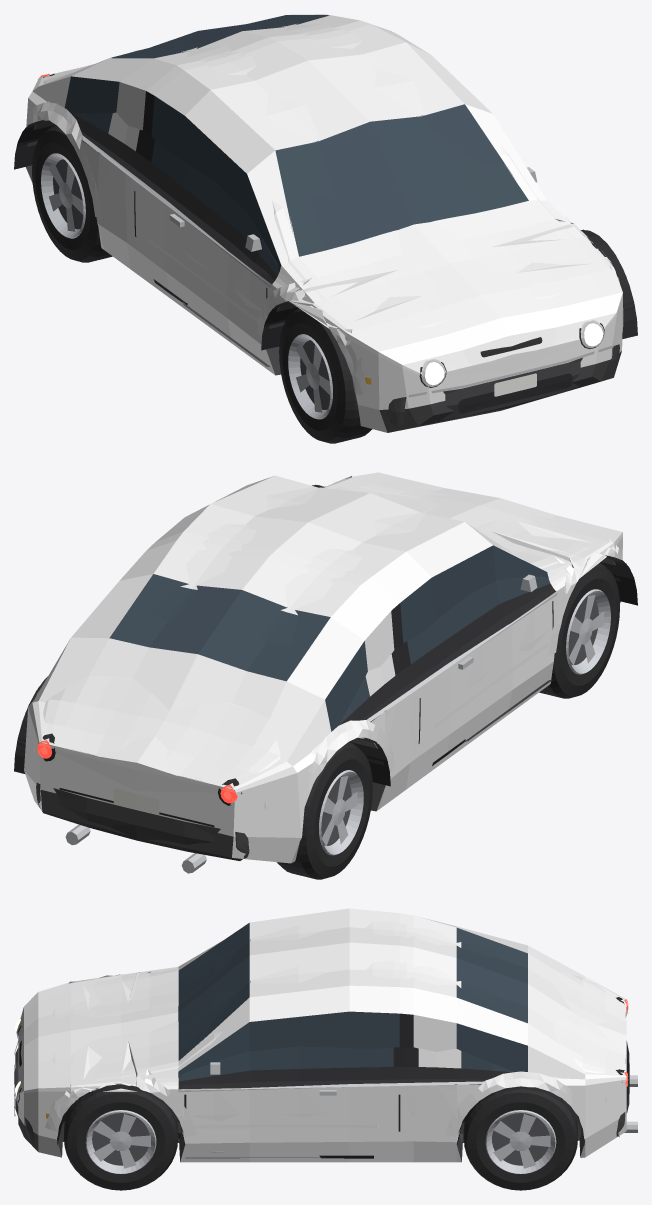
Rendered from besouro.glb.
3 renders of one model, top to bottom at view 1: azimuth 30°, elevation 25°; view 2: azimuth 150°, elevation 25°; view 3: azimuth 270°, elevation 25°, orthographic. The views are drawn at different scales.
Parts seen in each view (by area): view 1: body.001, body, glass.001, glass, details, wheel_fr, wheel_rr, wheel_wells.001, wheel_wells, lamp_head; view 2: body.001, body, glass.001, details, wheel_rr, wheel_fr, glass, wheel_wells.001, wheel_wells; view 3: body.001, body, glass.001, wheel_rl, wheel_fl, details, glass, wheel_wells, wheel_wells.001.
Boxes of the visible parts, <box> form: body.001: <box>26,14,622,432</box>; body: <box>43,23,590,377</box>; glass.001: <box>64,15,514,271</box>; glass: <box>73,20,528,275</box>; details: <box>33,102,623,425</box>; wheel_fr: <box>279,308,372,443</box>; wheel_rr: <box>32,125,112,262</box>; wheel_wells.001: <box>14,120,635,350</box>; wheel_wells: <box>14,120,637,347</box>; lamp_head: <box>365,320,604,387</box>; body.001: <box>24,472,622,863</box>; body: <box>34,485,590,809</box>; glass.001: <box>109,545,548,731</box>; details: <box>36,476,622,873</box>; wheel_rr: <box>276,742,372,879</box>; wheel_fr: <box>539,563,619,698</box>; glass: <box>148,576,550,724</box>; wheel_wells.001: <box>16,484,637,786</box>; wheel_wells: <box>14,485,637,783</box>; body.001: <box>18,908,626,1162</box>; body: <box>18,921,626,1152</box>; glass.001: <box>178,923,527,1077</box>; wheel_rl: <box>463,1088,577,1190</box>; wheel_fl: <box>64,1091,178,1190</box>; details: <box>14,971,637,1158</box>; glass: <box>178,939,514,1081</box>; wheel_wells: <box>57,1084,584,1145</box>; wheel_wells.001: <box>57,1088,584,1144</box>.
Size of the model in its own units: 1.95 by 1.52 by 4.37.
